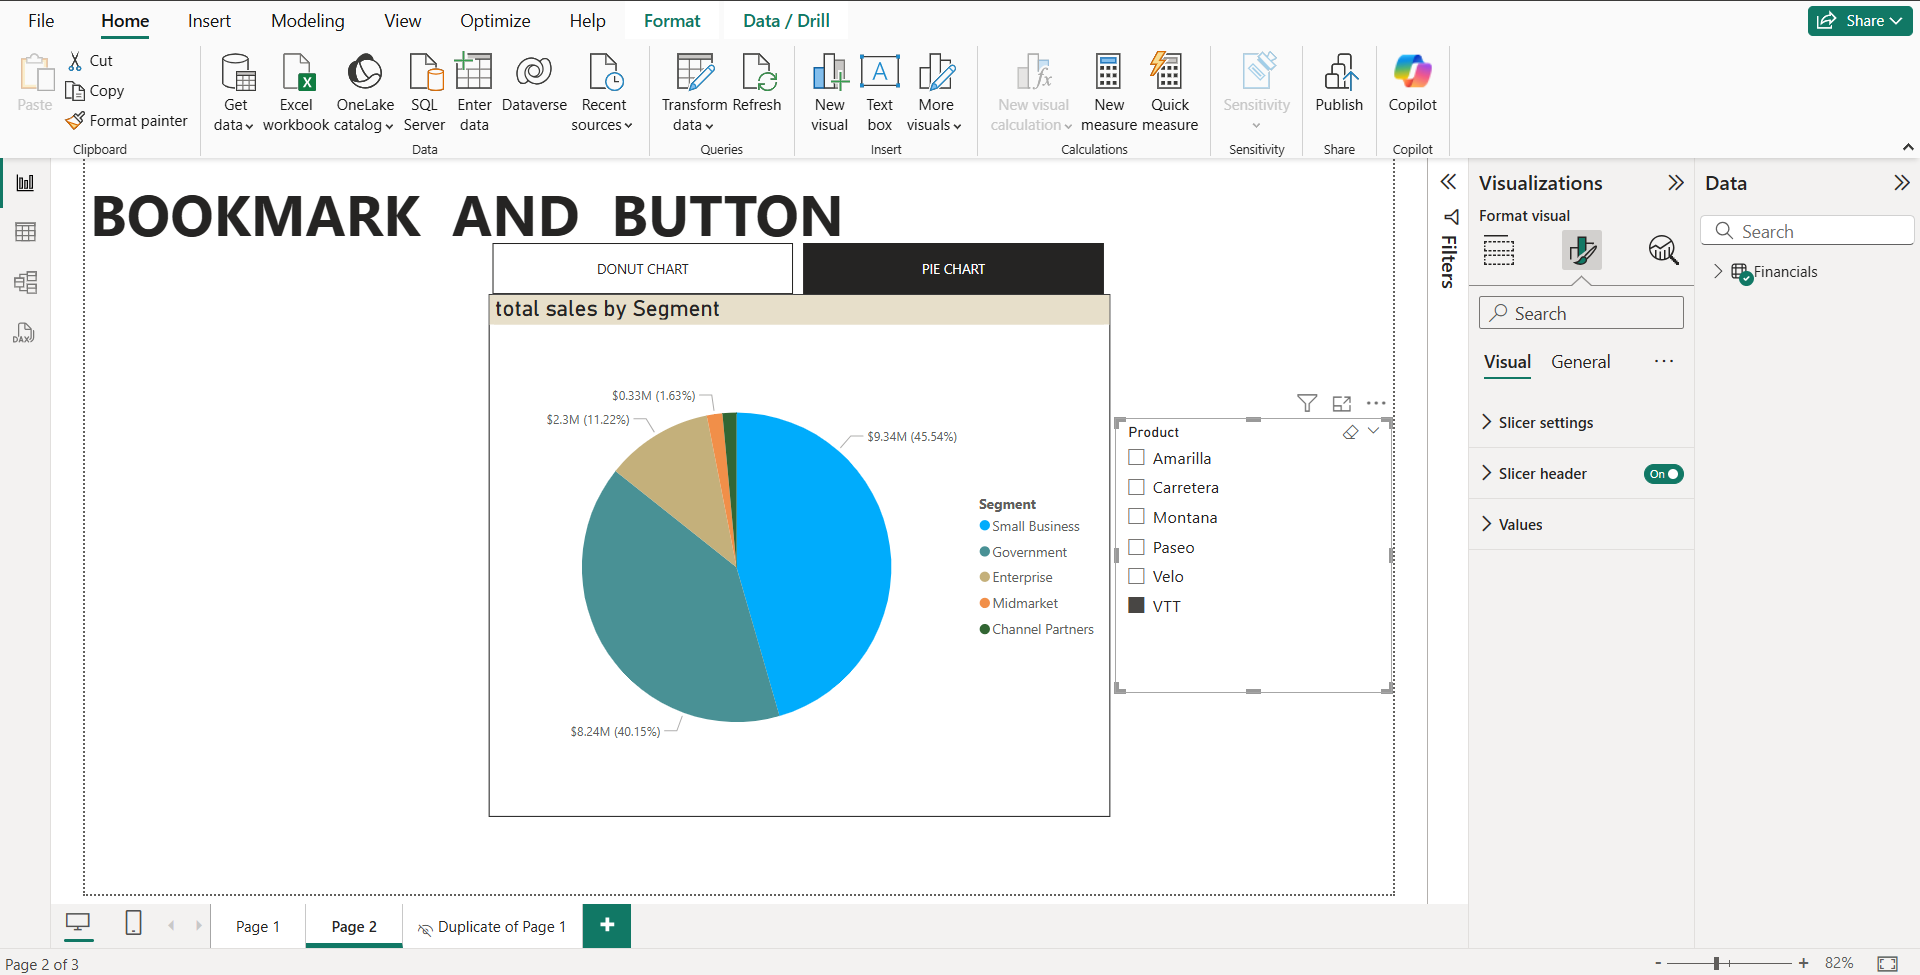

This screenshot's page, from the dashboard's own definition file:
{"tool":"powerbi","page":{"name":"Page 2","canvas":[1280,720],"ordinal":1},"visuals":[{"type":"pieChart","fields":{"Y":["Financials.total sales"],"Category":["Financials.Segment"]},"box":[389.6,136.8,607.8,510.8],"z":1000},{"type":"textbox","box":[0,10.7,1079.8,98.2],"z":2000},{"type":"slicer","fields":{"Values":["Financials. Product "]},"box":[1007.8,254.5,271.9,268.4],"z":3000},{"type":"bookmarkNavigator","box":[394.8,83.1,599.1,50.2],"z":4000}]}

Visuals, with their boxes on the page's 1280x720 design canvas (x1, y1, x2, y2). These are canvas units, not pixel positions in the 1920x975 screenshot, which may show the page scaled, cropped or inside an application window:
pieChart - Financials.total sales x Financials.Segment: [x1=390, y1=137, x2=997, y2=648]
textbox: [x1=0, y1=11, x2=1080, y2=109]
slicer - Financials. Product : [x1=1008, y1=254, x2=1280, y2=523]
bookmarkNavigator: [x1=395, y1=83, x2=994, y2=133]
